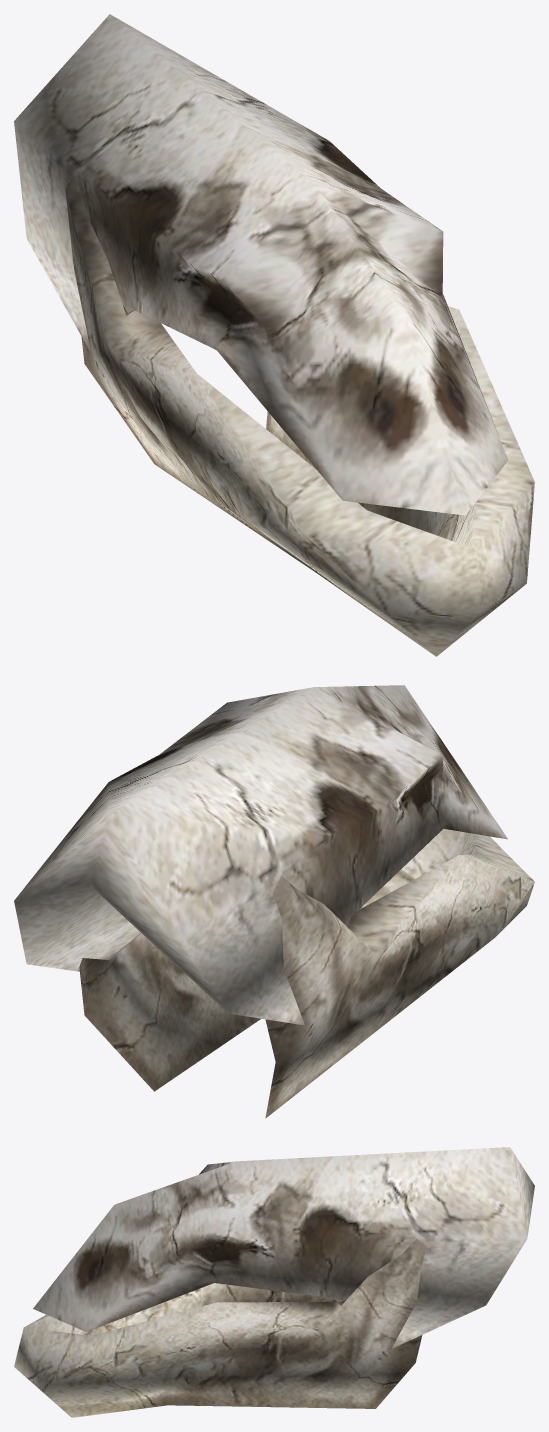
File: thm_dant_lizard_skull_l2.fbx
The picture shows the model from 3 angles, top to bottom: view 1: azimuth 30°, elevation 25°; view 2: azimuth 150°, elevation 25°; view 3: azimuth 270°, elevation 25°; orthographic projection. The views are drawn at different scales.
Parts seen in each view (by area): view 1: mesh_node; view 2: mesh_node; view 3: mesh_node.
Boxes of the visible parts, x1,y1,x2,y2 form: mesh_node: (14,14,534,656); mesh_node: (14,685,534,1118); mesh_node: (14,1147,534,1417).
Size of the model in its own units: 0.2368 by 0.345 by 0.6013.
1 material, 1 textured.
